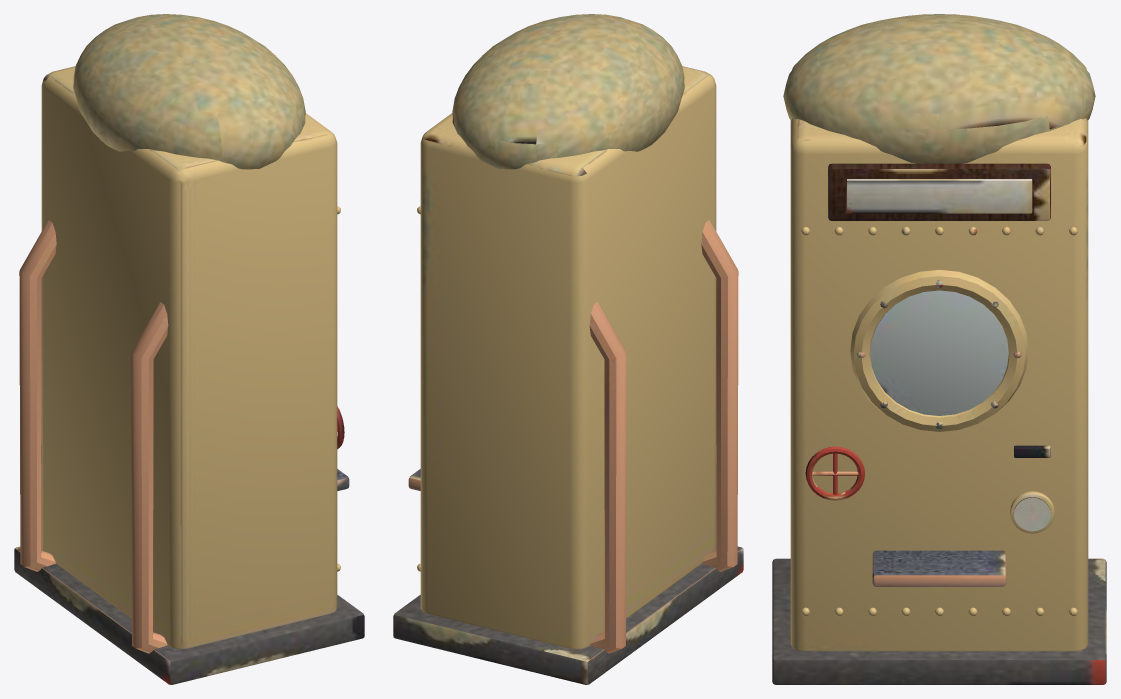
The model's file is tonic.glb.
3 renders of one model, left to right at view 1: azimuth 30°, elevation 25°; view 2: azimuth 150°, elevation 25°; view 3: azimuth 270°, elevation 25°, orthographic. The views are drawn at different scales.
Visible parts, largest first — view 1: cabinet, dome, plinth, pipe-1, pipe1; view 2: cabinet, dome, plinth, pipe1, pipe-1; view 3: cabinet, dome, plinth, port_glass, port_ring, sign, sign_plate, tray, valve, gauge_face, gauge.
Boxes of the visible parts, x1,y1,x2,y2 form: cabinet: (41, 66, 337, 649); dome: (73, 14, 305, 169); plinth: (14, 546, 364, 684); pipe-1: (131, 302, 168, 653); pipe1: (19, 220, 56, 571); cabinet: (420, 66, 716, 649); dome: (452, 14, 684, 169); plinth: (393, 546, 743, 684); pipe1: (589, 302, 626, 653); pipe-1: (701, 220, 738, 571); cabinet: (790, 62, 1088, 651); dome: (783, 14, 1095, 163); plinth: (772, 558, 1106, 684); port_glass: (870, 290, 1008, 415); port_ring: (850, 269, 1028, 431); sign: (828, 163, 1050, 220); sign_plate: (846, 179, 1032, 213); tray: (872, 550, 1006, 586); valve: (805, 446, 864, 500); gauge_face: (1014, 497, 1050, 531); gauge: (1010, 491, 1054, 533).
Size of the model in its own units: 0.8017 by 1.81 by 0.9.
Materials: 1 (1 with a texture image).
